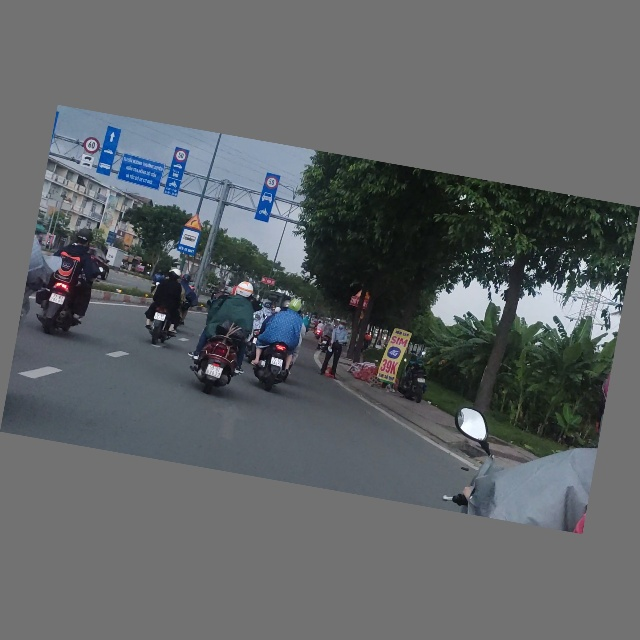I.434a: (176, 227, 201, 256)
P.127*50: (264, 175, 279, 191), (173, 148, 188, 164)
P.127*60: (82, 136, 101, 156)
S.505a*Xe tai va cong: (79, 154, 95, 170)
W.201b: (184, 212, 204, 231)
